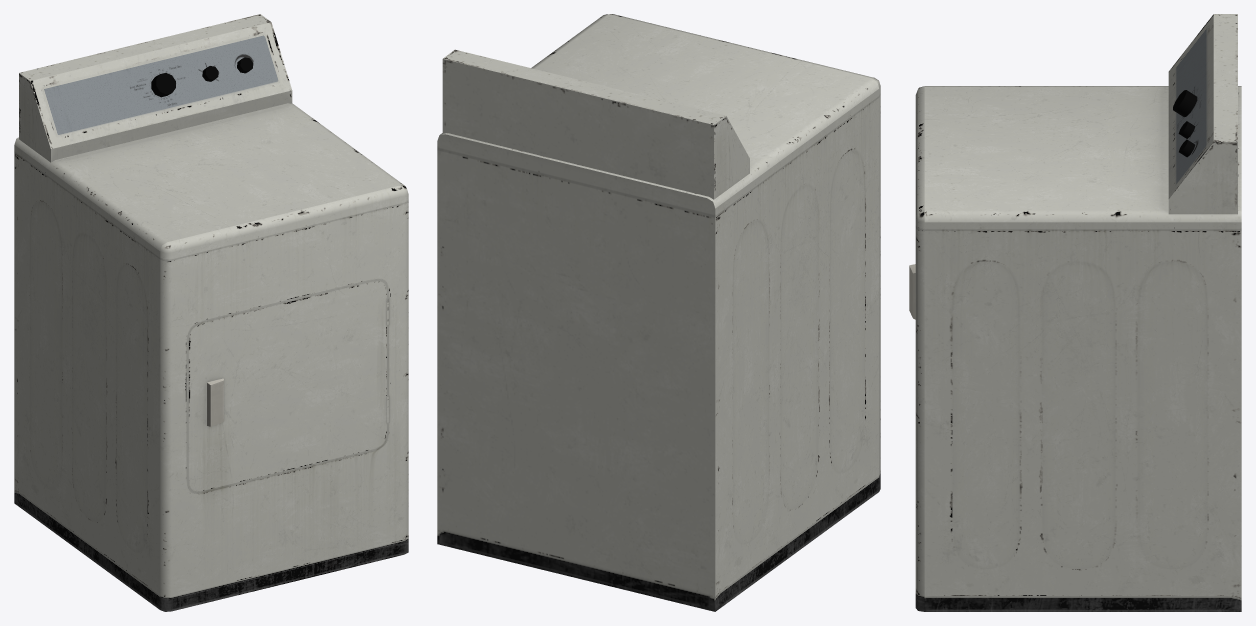
The model's file is DryerMachine.FBX.
3 views of the same model, side by side, from view 1: azimuth 30°, elevation 25°; view 2: azimuth 150°, elevation 25°; view 3: azimuth 270°, elevation 25° (orthographic). The views are drawn at different scales.
Parts seen in each view (by area): view 1: DryerMachine_LOD0; view 2: DryerMachine_LOD0; view 3: DryerMachine_LOD0.
Part boxes in pixels (x1,y1,x2,y2): DryerMachine_LOD0: (14, 14, 408, 611); DryerMachine_LOD0: (437, 14, 880, 611); DryerMachine_LOD0: (909, 14, 1241, 611).
Size of what is drawn, in the model's own units: 68.5 by 114 by 73.42.
